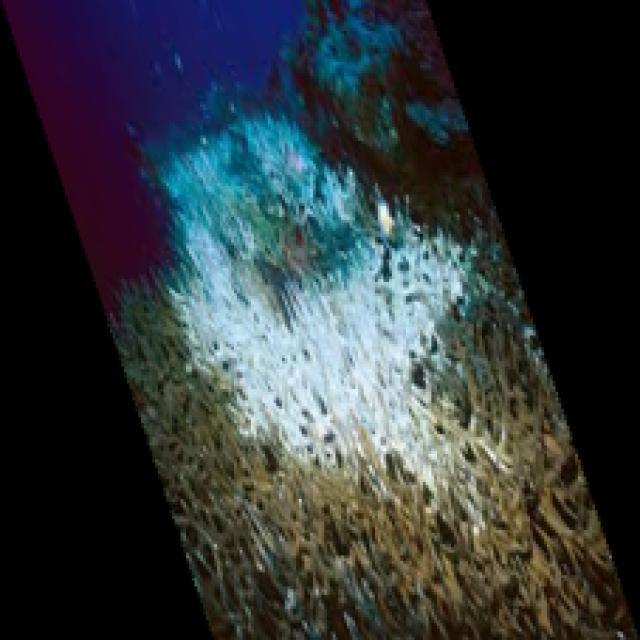Bleached: (157, 118, 498, 536)
